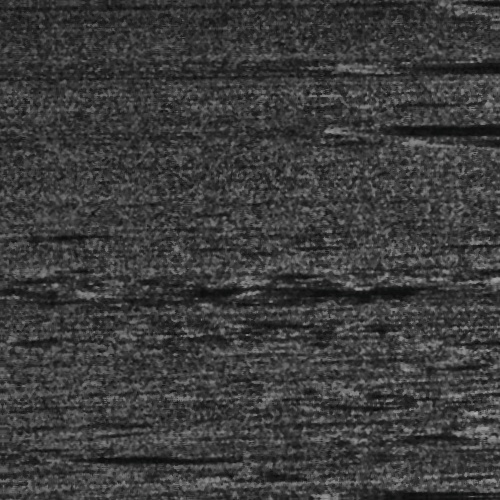object: (292, 61, 427, 74), (80, 285, 195, 294), (31, 451, 124, 460), (443, 8, 500, 19), (431, 141, 494, 150), (225, 286, 288, 295), (0, 229, 60, 236), (447, 0, 500, 5), (458, 431, 500, 436), (317, 488, 348, 493), (485, 409, 500, 416), (328, 128, 359, 131)
shadow: (138, 285, 424, 294), (360, 61, 500, 74), (257, 286, 448, 295), (77, 451, 218, 460), (29, 229, 99, 236), (462, 141, 500, 150), (485, 8, 500, 19), (479, 0, 500, 5), (333, 488, 354, 493), (344, 128, 367, 131)
